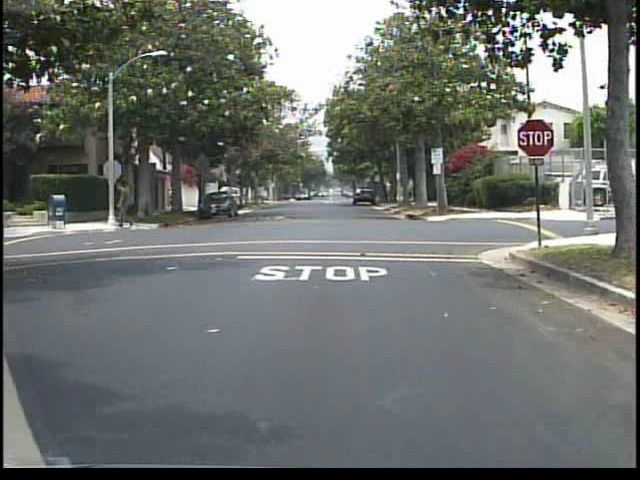person: (111, 175, 138, 233)
